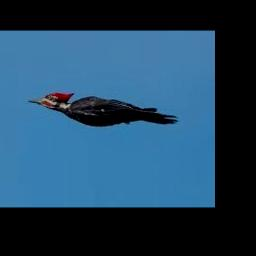Woodpecker: (29, 91, 179, 127)
